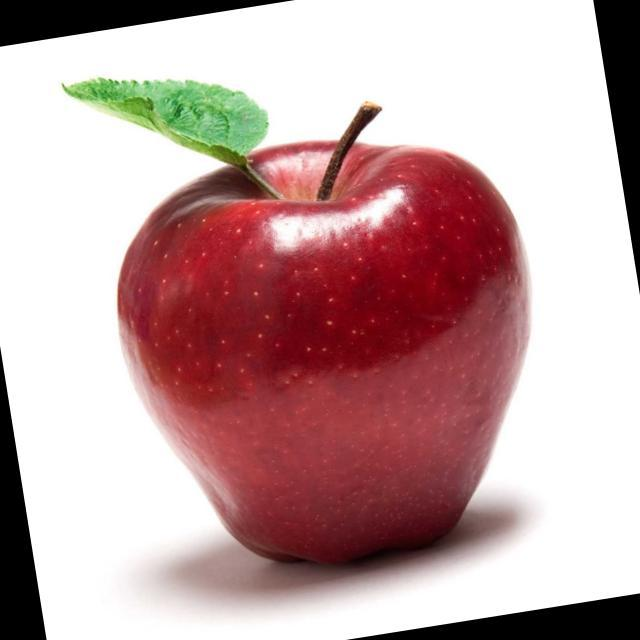APPLE: (95, 120, 569, 593)
